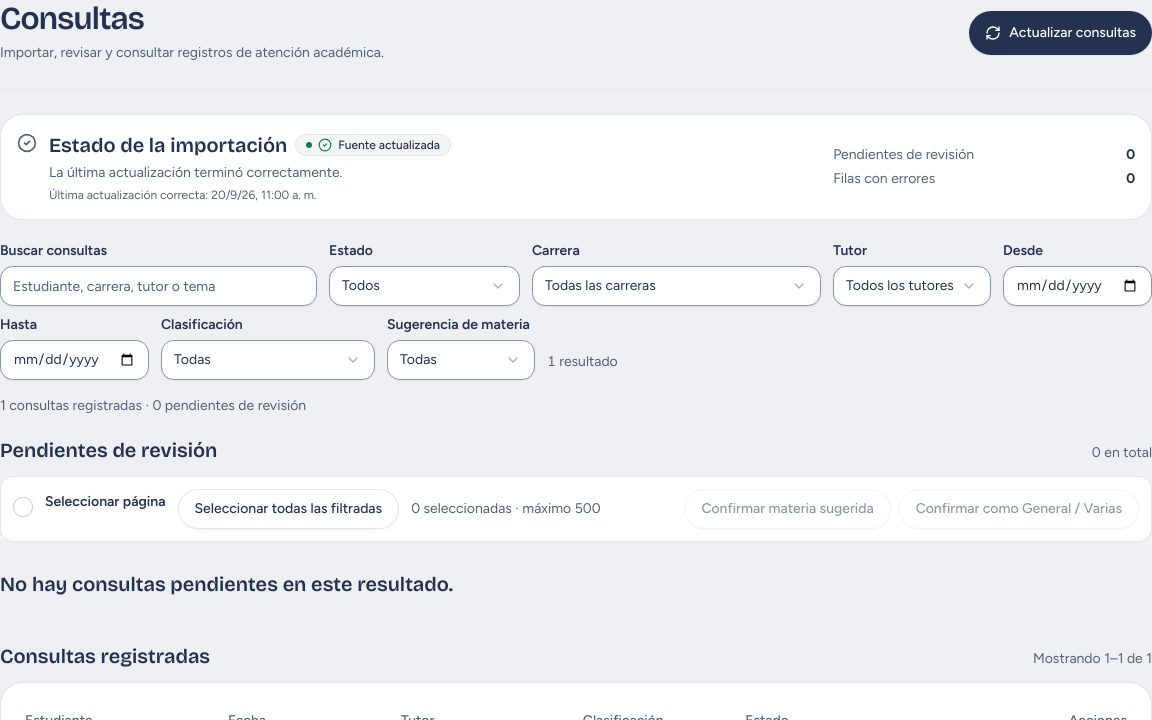
it: ConsultationsScreen › restores results when search returns to the initial filters
Type "No existe" into the search field labelled "Buscar consultas" at (158, 286), box [0,266,317,306]
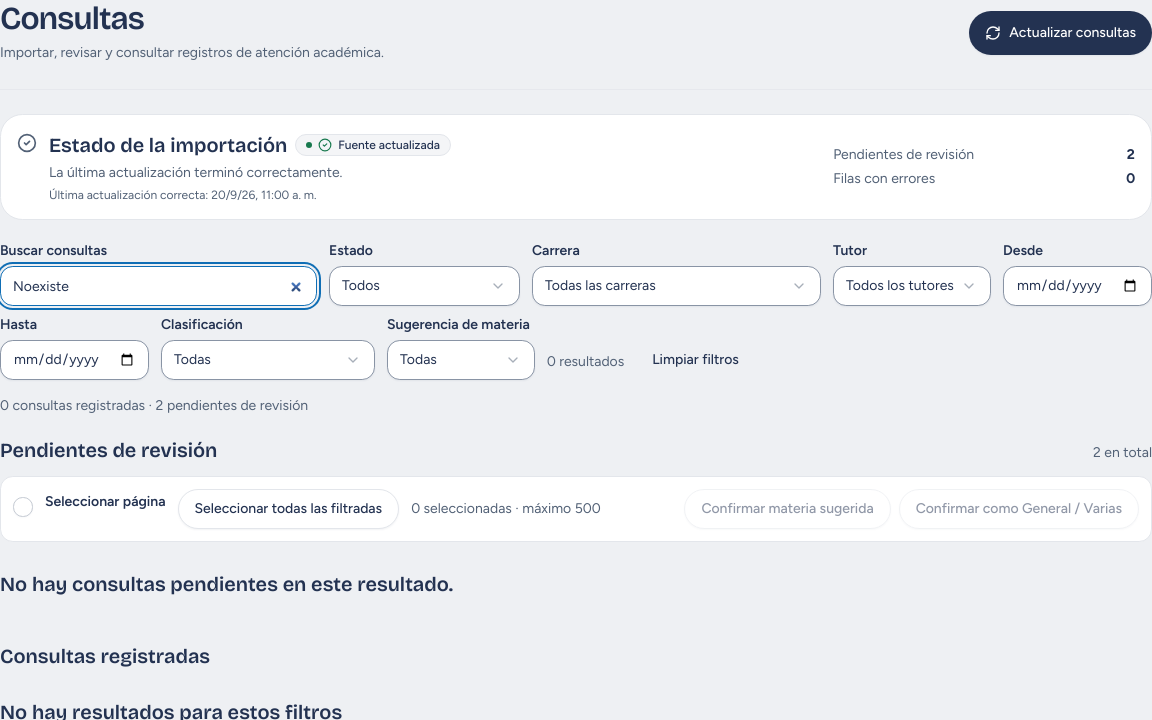
Clear the search field labelled "Buscar consultas" at (158, 286), box [0,266,317,306]
(page scrolled)
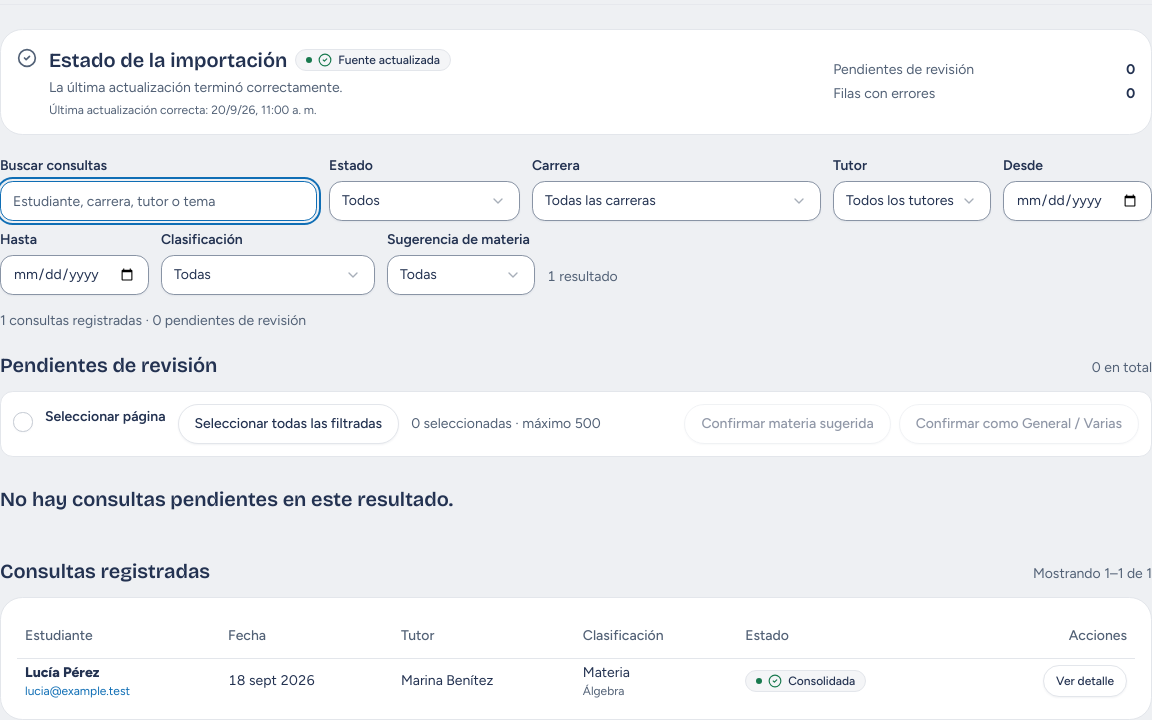
Expected: the table is shown, [17,614,1135,703]
Expected: the text "Lucía Pérez" is shown, [25,664,99,681]
